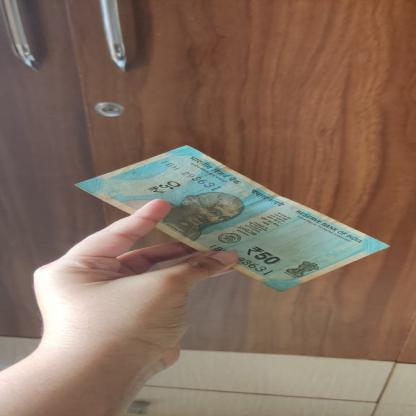New50Front: (76, 143, 394, 294)
